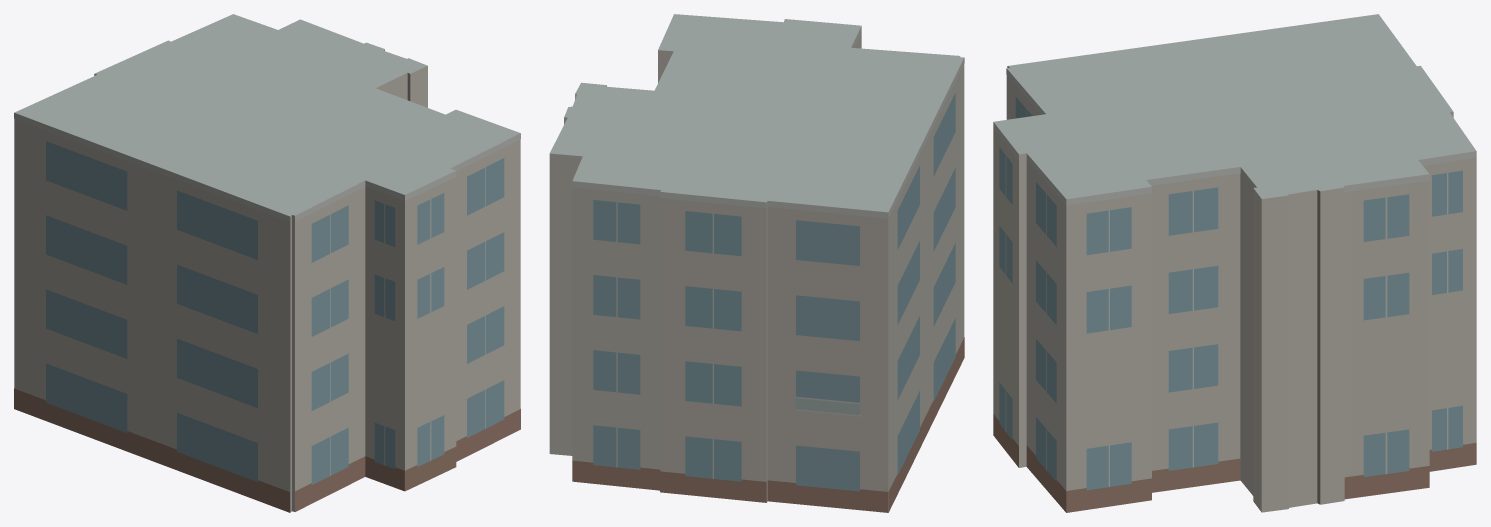
Rendered from survey-upis-32823608.glb.
The picture shows the model from 3 angles, left to right: view 1: azimuth 30°, elevation 25°; view 2: azimuth 150°, elevation 25°; view 3: azimuth 270°, elevation 25°; orthographic projection. The views are drawn at different scales.
Parts seen in each view (by area): view 1: survey-upis-32823608.tmp; view 2: survey-upis-32823608.tmp; view 3: survey-upis-32823608.tmp.
Boxes of the visible parts, x1,y1,x2,y2 form: survey-upis-32823608.tmp: (14,14,520,512); survey-upis-32823608.tmp: (549,14,964,512); survey-upis-32823608.tmp: (993,14,1476,512).
Size of the model in its own units: 15.1 by 11.9 by 16.63.
